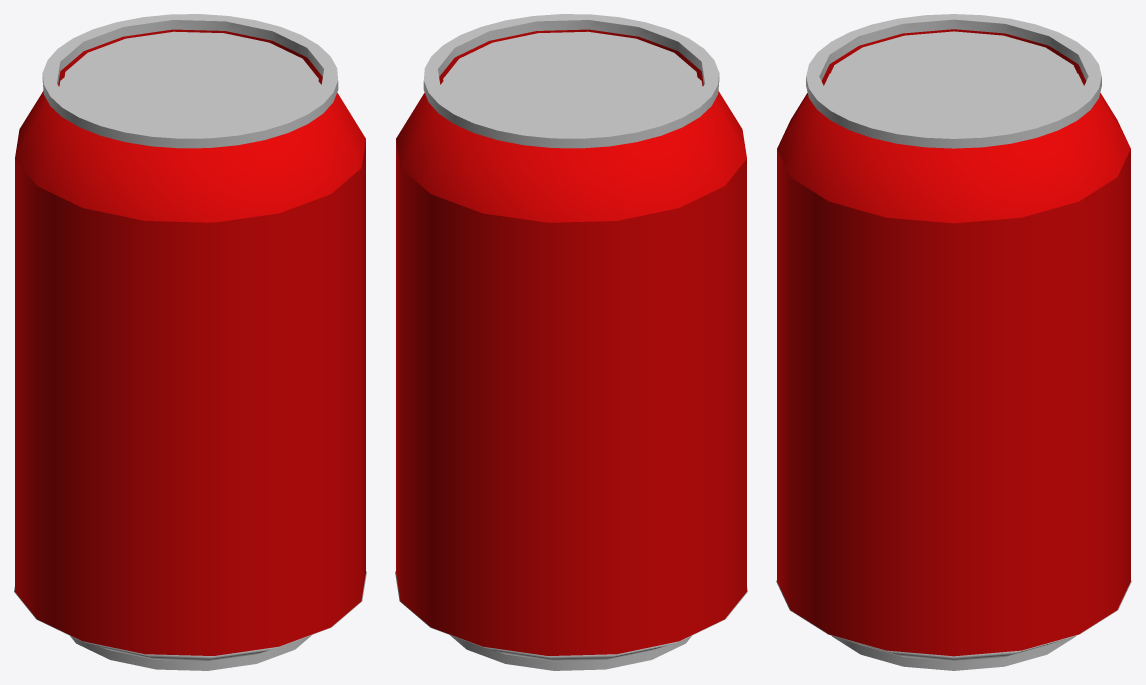
File: lata_bebida.glb
3 renders of one model, left to right at view 1: azimuth 30°, elevation 25°; view 2: azimuth 150°, elevation 25°; view 3: azimuth 270°, elevation 25°, orthographic.
Visible parts, largest first — view 1: lata_bebida; view 2: lata_bebida; view 3: lata_bebida.
Part boxes in pixels (box(x1,y1,x2,y2)): lata_bebida: box(14, 14, 366, 670); lata_bebida: box(395, 14, 747, 670); lata_bebida: box(776, 14, 1131, 670).
Size of the model in its own units: 6.7 by 11.2 by 6.7.
